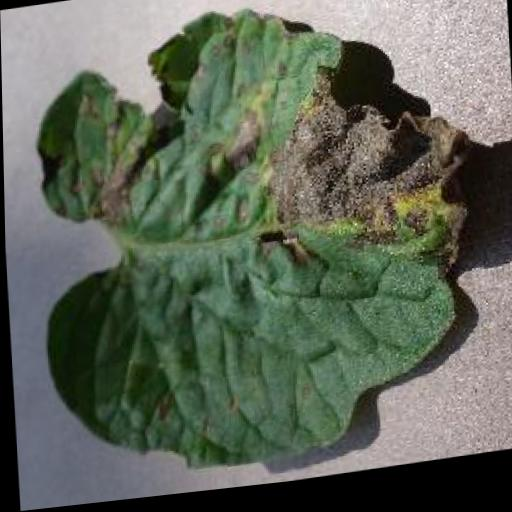Early Blight: (27, 0, 483, 496)
